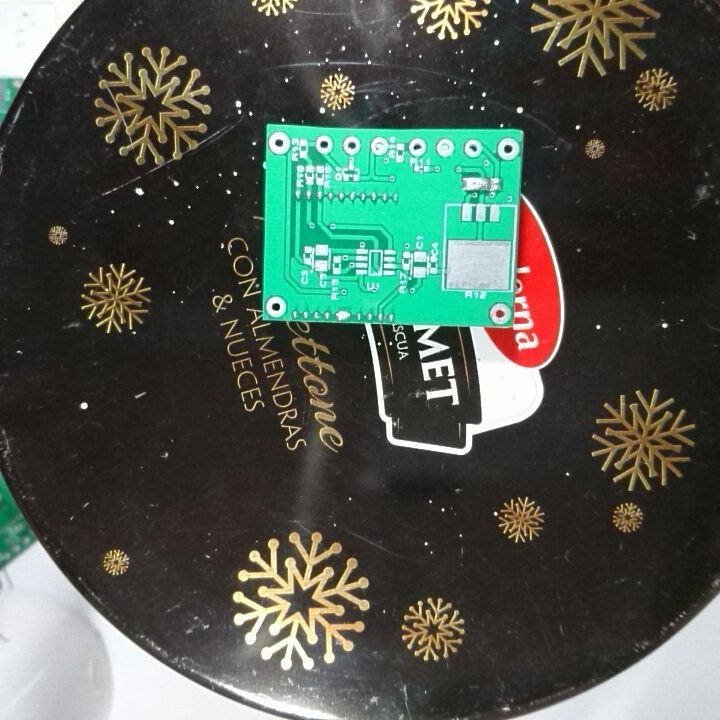F: (267, 130, 292, 158), (495, 136, 521, 162), (263, 294, 288, 320), (405, 135, 429, 159), (432, 136, 456, 160), (488, 300, 511, 325), (368, 135, 390, 158), (462, 137, 484, 160), (313, 133, 334, 156), (340, 135, 361, 157)
P: (459, 175, 489, 194), (333, 308, 352, 323)
